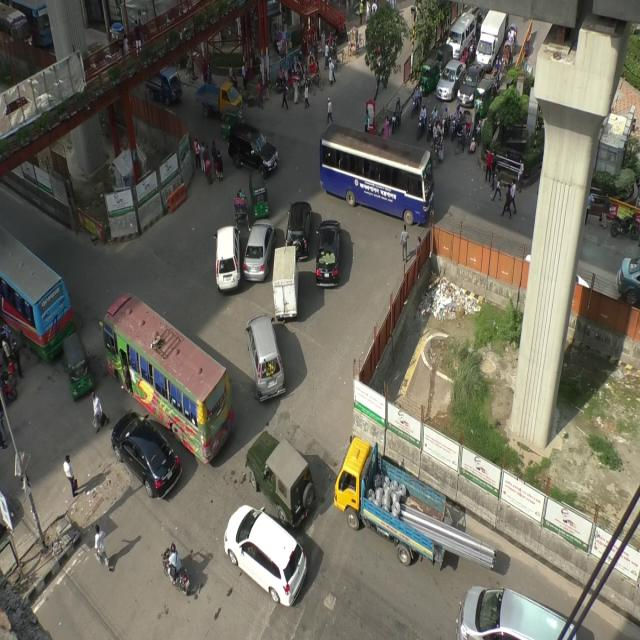cng: (59, 336, 98, 402), (246, 168, 271, 220), (474, 73, 496, 122), (420, 54, 440, 98), (222, 103, 247, 138)
rikshaw: (454, 110, 474, 156), (233, 187, 250, 229), (306, 51, 323, 88), (292, 62, 312, 92), (285, 66, 301, 102), (431, 120, 445, 161), (328, 42, 347, 70), (347, 26, 363, 59), (501, 40, 514, 78), (507, 21, 519, 57)
